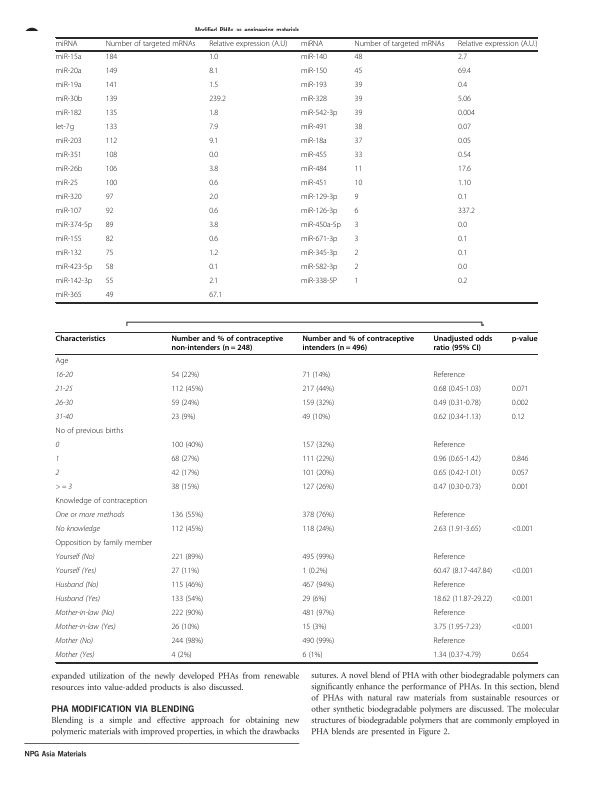borderless: (54, 331, 537, 662), (54, 36, 537, 302)
cell: (170, 335, 284, 353), (301, 335, 415, 353), (432, 335, 493, 353), (55, 539, 153, 549), (55, 497, 148, 507), (353, 40, 445, 49), (105, 40, 196, 49), (457, 40, 538, 49), (208, 40, 288, 49), (55, 427, 124, 437), (55, 511, 125, 520), (432, 567, 493, 577), (432, 595, 493, 605), (55, 623, 117, 632), (55, 609, 115, 618), (432, 385, 482, 395), (432, 399, 482, 409), (432, 413, 482, 423), (432, 455, 482, 465), (432, 469, 482, 479), (432, 483, 482, 493), (432, 525, 482, 535), (432, 623, 482, 633), (432, 651, 482, 661), (55, 335, 107, 344), (55, 525, 101, 535), (300, 221, 342, 231), (55, 595, 101, 604), (55, 581, 99, 590), (300, 109, 338, 119), (300, 193, 338, 203), (300, 207, 338, 217), (55, 221, 93, 231), (300, 235, 338, 245), (300, 249, 338, 259), (55, 263, 93, 273), (300, 263, 338, 273), (55, 277, 93, 287), (300, 277, 338, 287), (55, 567, 97, 576), (55, 553, 96, 562), (55, 651, 95, 660), (55, 637, 94, 646), (432, 371, 466, 381), (170, 385, 204, 395), (301, 385, 335, 395), (301, 399, 335, 409), (170, 441, 204, 451), (301, 441, 335, 451), (432, 441, 466, 451), (301, 455, 335, 465), (301, 469, 335, 479), (301, 483, 335, 493), (170, 511, 204, 521), (301, 511, 335, 521), (432, 511, 466, 521), (170, 525, 204, 535), (301, 525, 335, 535), (170, 553, 204, 563), (301, 553, 335, 563), (432, 553, 466, 563), (170, 581, 204, 591), (301, 581, 335, 591), (432, 581, 466, 591), (170, 595, 204, 605), (170, 609, 204, 619), (301, 609, 335, 619), (432, 609, 466, 619), (170, 637, 204, 647), (301, 637, 335, 647), (432, 637, 466, 647), (170, 371, 200, 381), (301, 371, 331, 381), (170, 399, 200, 409), (301, 413, 331, 423), (170, 455, 200, 465), (170, 469, 200, 479), (170, 483, 200, 493), (170, 567, 200, 577), (170, 623, 200, 633), (300, 53, 328, 63), (300, 67, 328, 77), (300, 81, 328, 91), (55, 95, 83, 105), (300, 95, 328, 105), (300, 123, 328, 133), (300, 137, 328, 147), (300, 151, 328, 161), (55, 165, 83, 175), (300, 165, 328, 175), (300, 179, 328, 189), (301, 567, 329, 577), (55, 53, 82, 63), (55, 67, 82, 77), (55, 81, 82, 91), (55, 109, 82, 119), (55, 137, 82, 147), (55, 151, 82, 161), (55, 193, 82, 203), (55, 207, 82, 217), (55, 235, 82, 245), (55, 249, 82, 259), (55, 291, 82, 301), (170, 413, 196, 423), (301, 595, 327, 605), (301, 623, 327, 633), (511, 335, 538, 344), (55, 179, 79, 189), (511, 525, 534, 535), (511, 567, 534, 577), (511, 595, 534, 605), (511, 623, 534, 633), (170, 651, 192, 661), (301, 651, 323, 661), (300, 40, 324, 49), (55, 40, 78, 49), (55, 123, 75, 133), (208, 95, 227, 105), (457, 109, 476, 119), (457, 207, 476, 217), (511, 385, 529, 395), (511, 399, 529, 409), (511, 455, 529, 465), (511, 469, 529, 479), (511, 483, 529, 493), (511, 651, 529, 661), (55, 371, 73, 380), (55, 385, 73, 394), (55, 399, 73, 408), (55, 413, 73, 422), (55, 483, 73, 492), (457, 67, 472, 77), (457, 95, 472, 105), (457, 123, 472, 133), (457, 137, 472, 147), (457, 151, 472, 161), (457, 165, 472, 175), (457, 179, 472, 189), (208, 291, 223, 301), (511, 413, 526, 423), (55, 357, 69, 367), (105, 53, 118, 63), (105, 67, 118, 77), (105, 81, 118, 91), (105, 95, 118, 105), (105, 109, 118, 119), (105, 123, 118, 133), (105, 137, 118, 147), (105, 151, 118, 161), (105, 165, 118, 175), (105, 179, 118, 189), (208, 53, 219, 63), (457, 53, 468, 63), (208, 67, 219, 77), (208, 81, 219, 91), (457, 81, 468, 91), (208, 109, 219, 119), (208, 123, 219, 133), (208, 137, 219, 147), (208, 151, 219, 161), (208, 165, 219, 175), (208, 179, 219, 189), (208, 193, 219, 203), (457, 193, 468, 203), (208, 207, 219, 217), (208, 221, 219, 231), (457, 221, 468, 231), (208, 235, 219, 245), (457, 235, 468, 245), (208, 249, 219, 259), (457, 249, 468, 259), (208, 263, 219, 273), (457, 263, 468, 273), (208, 277, 219, 287), (457, 277, 468, 287), (353, 53, 363, 63), (353, 67, 363, 77), (353, 81, 363, 91), (353, 95, 363, 105), (353, 109, 363, 119), (353, 123, 363, 133), (353, 137, 363, 147), (353, 151, 363, 161), (353, 165, 363, 175), (353, 179, 363, 189), (105, 193, 114, 203), (105, 207, 114, 217), (105, 221, 114, 231), (105, 235, 114, 245), (105, 249, 114, 259), (105, 263, 114, 273), (105, 277, 114, 287), (105, 291, 114, 301), (353, 193, 359, 203), (353, 207, 359, 217), (353, 221, 359, 231), (353, 235, 359, 245), (353, 249, 359, 259), (353, 263, 359, 273), (353, 277, 359, 287), (55, 441, 60, 450), (55, 455, 60, 464), (55, 469, 60, 478)
